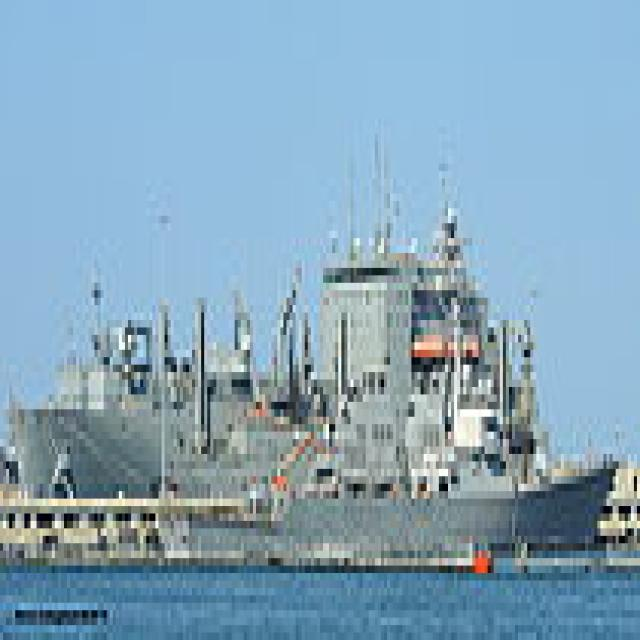Warship: (149, 127, 616, 558), (6, 134, 479, 521)
